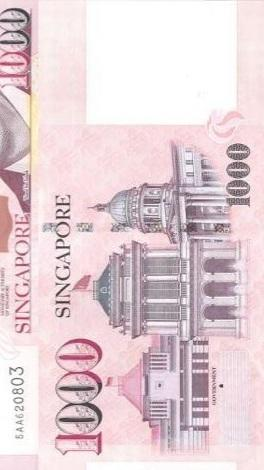1000SingaporeDollar: (32, 0, 264, 470)
